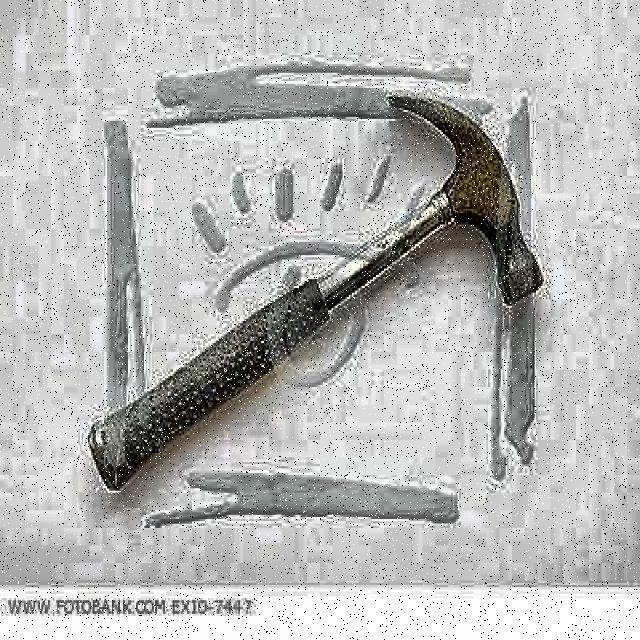hammer: (84, 89, 544, 492)
